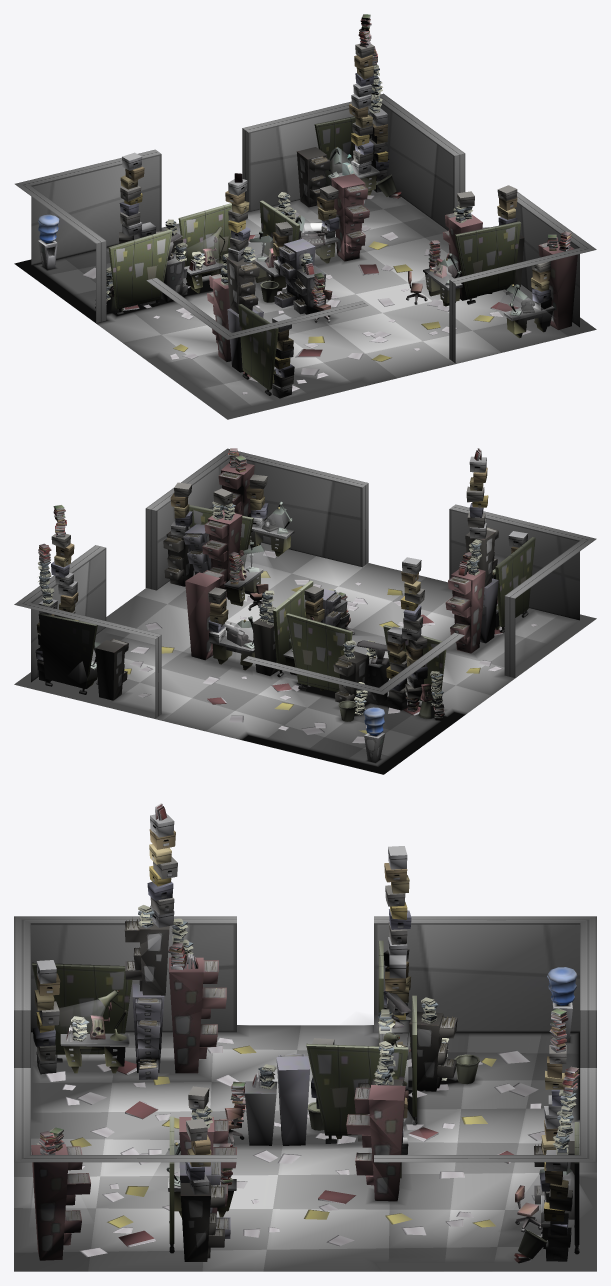
Rendered from field_maze_quadrant1.glb.
3 renders of one model, top to bottom at view 1: azimuth 30°, elevation 25°; view 2: azimuth 150°, elevation 25°; view 3: azimuth 270°, elevation 25°, orthographic. The views are drawn at different scales.
Parts seen in each view (by area): view 1: maze_floor, maze1_quadrant1, maze2_grouping2, maze4_quadrant1, maze5_quadrant1, maze3_quadrant1, maze6_floorPaperGrouping, maze5_floorShadow_grouping5, maze2_floorShadow_grouping2, maze1_floorShadow_grouping1, maze4_lightConeMd1, maze4_lightConeMd (+2 smaller); view 2: maze_floor, maze4_quadrant1, maze5_quadrant1, maze2_grouping2, maze1_quadrant1, maze3_quadrant1, maze2_floorShadow_grouping2, maze6_floorPaperGrouping, maze5_floorShadow_grouping5, maze1_floorShadow_grouping1, maze4_lightConeMd, maze3_floorShadow_grouping3 (+4 smaller); view 3: maze_floor, maze5_quadrant1, maze2_grouping2, maze3_quadrant1, maze4_quadrant1, maze1_quadrant1, maze6_floorPaperGrouping, maze1_floorShadow_grouping1, maze5_floorShadow_grouping5, maze2_floorShadow_grouping2, maze3_floorShadow_grouping3, maze5_lightConeSm (+3 smaller).
Part boxes in pixels (x1,y1,x2,y2): maze_floor: (35, 195, 596, 419); maze1_quadrant1: (242, 14, 465, 230); maze2_grouping2: (15, 149, 231, 322); maze4_quadrant1: (406, 185, 596, 363); maze5_quadrant1: (146, 173, 368, 398); maze3_quadrant1: (249, 174, 369, 322); maze6_floorPaperGrouping: (82, 195, 532, 394); maze5_floorShadow_grouping5: (143, 353, 373, 419); maze2_floorShadow_grouping2: (14, 228, 213, 324); maze1_floorShadow_grouping1: (248, 190, 447, 235); maze4_lightConeMd1: (496, 290, 548, 319); maze4_lightConeMd: (416, 262, 458, 292); maze_floor: (16, 542, 595, 774); maze4_quadrant1: (145, 448, 368, 610); maze5_quadrant1: (445, 448, 596, 677); maze2_grouping2: (242, 557, 464, 721); maze1_quadrant1: (14, 505, 161, 718); maze3_quadrant1: (185, 570, 354, 677); maze2_floorShadow_grouping2: (237, 680, 467, 774); maze6_floorPaperGrouping: (77, 550, 537, 743); maze5_floorShadow_grouping5: (441, 585, 596, 680); maze1_floorShadow_grouping1: (14, 627, 171, 719); maze4_lightConeMd: (239, 550, 272, 583); maze3_floorShadow_grouping3: (184, 633, 355, 679); maze_floor: (14, 1025, 596, 1271); maze5_quadrant1: (14, 803, 236, 1079); maze2_grouping2: (374, 846, 596, 1128); maze3_quadrant1: (219, 1038, 408, 1201); maze4_quadrant1: (14, 1068, 236, 1261); maze1_quadrant1: (374, 1008, 596, 1263); maze6_floorPaperGrouping: (45, 1037, 545, 1257); maze1_floorShadow_grouping1: (365, 1172, 596, 1271); maze5_floorShadow_grouping5: (31, 1025, 247, 1122); maze2_floorShadow_grouping2: (366, 1025, 579, 1131); maze3_floorShadow_grouping3: (215, 1123, 409, 1204); maze5_lightConeSm: (51, 999, 105, 1053).
Bounding box in the file's own units: 51.04 × 25.34 × 51.
Materials: 10 (7 with a texture image).
